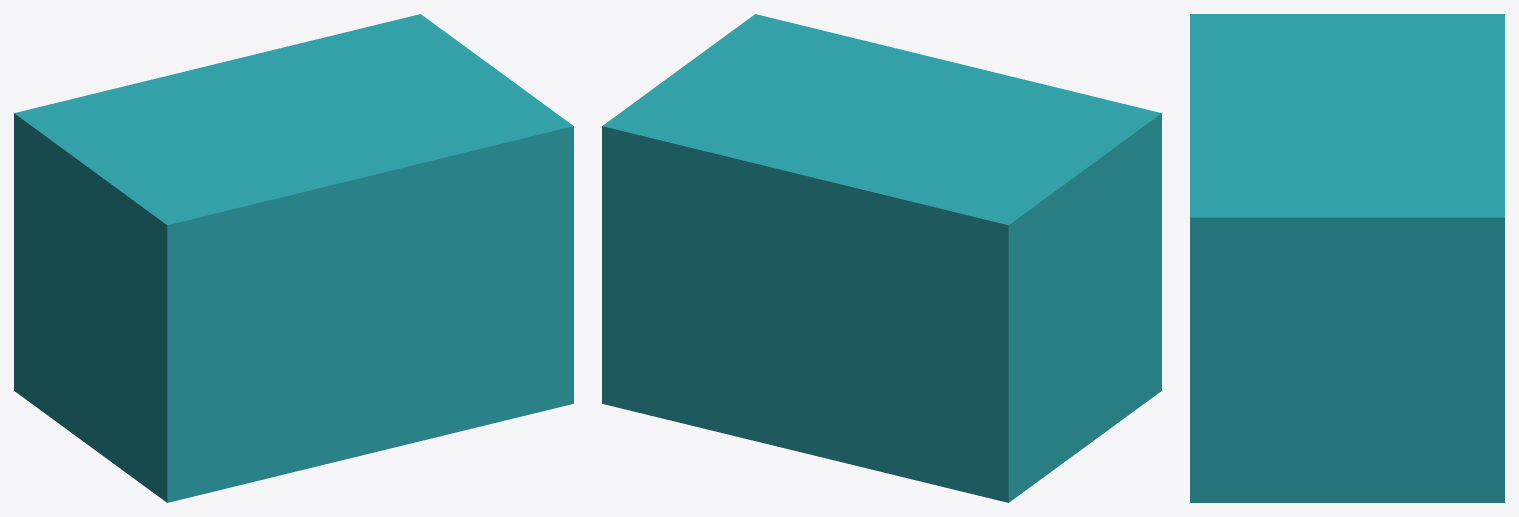
Rendered from generator-standby.glb.
3 renders of one model, left to right at view 1: azimuth 30°, elevation 25°; view 2: azimuth 150°, elevation 25°; view 3: azimuth 270°, elevation 25°, orthographic. The views are drawn at different scales.
Parts seen in each view (by area): view 1: world; view 2: world; view 3: world.
Part boxes in pixels (x1,y1,x2,y2): world: [14, 14, 573, 502]; world: [602, 14, 1161, 502]; world: [1190, 14, 1504, 502].
Bounding box in the file's own units: 0.95 × 0.675 × 0.62.
